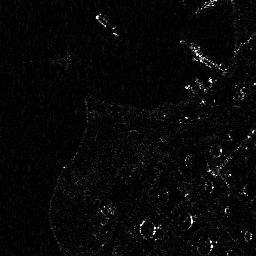ship: (93, 10, 120, 38)
